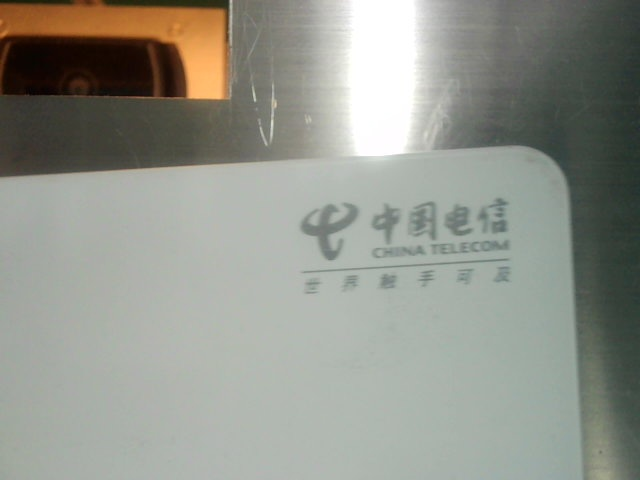AB_ChinaTelecom: (282, 193, 526, 293)
